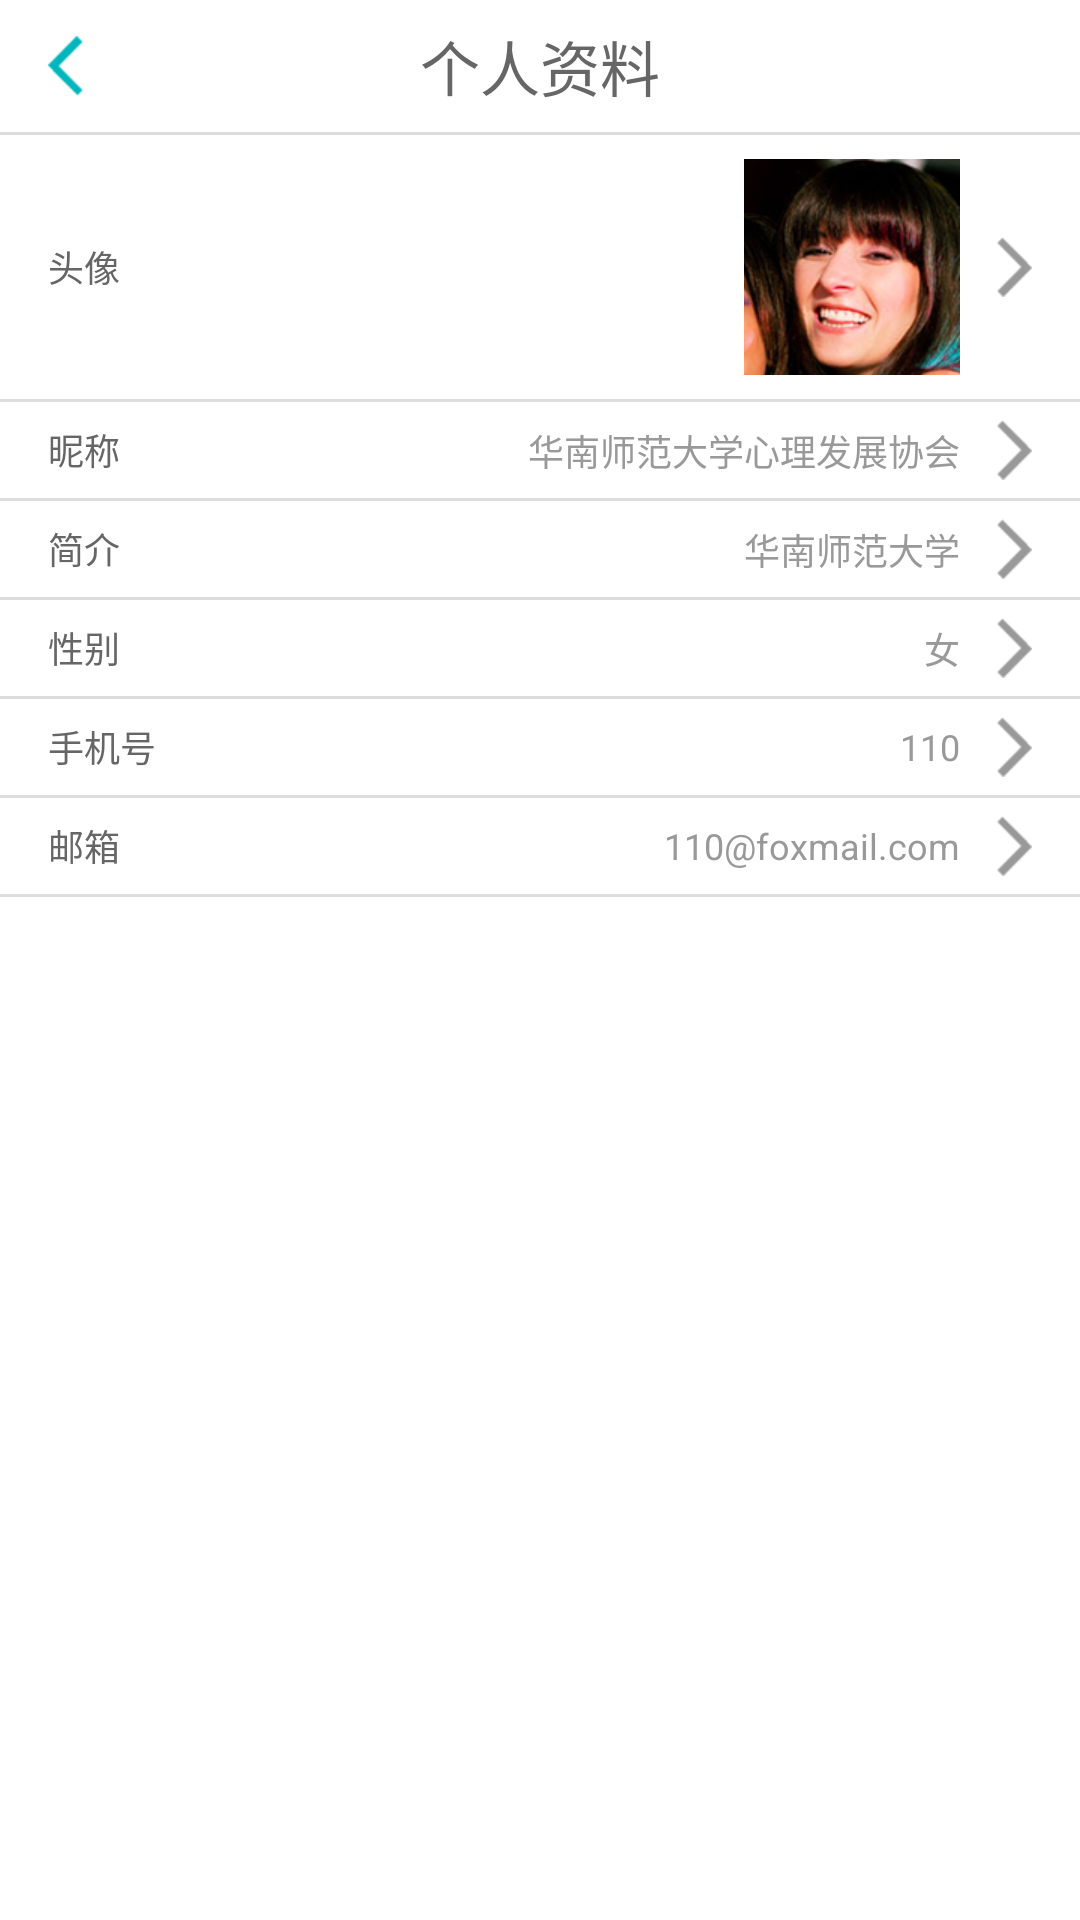

Screen size 1080×1920. Icon name, then its center in pixels as (x=x, y=y):
arrow right: (x=1014, y=267), (x=1014, y=450), (x=1014, y=549), (x=1014, y=648), (x=1014, y=747), (x=1014, y=846)
location back: (x=65, y=66)
management head: (x=852, y=267)
